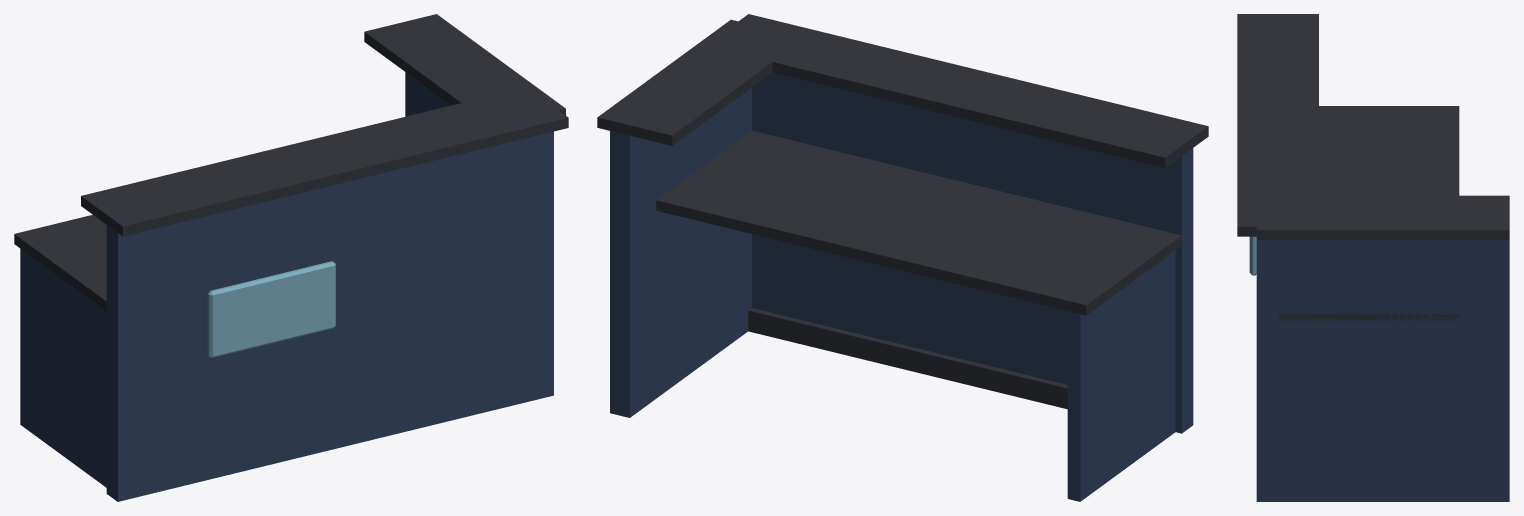
Rendered from reception-counter-05.glb.
3 views of the same model, side by side, from view 1: azimuth 30°, elevation 25°; view 2: azimuth 150°, elevation 25°; view 3: azimuth 270°, elevation 25° (orthographic). The views are drawn at different scales.
Parts seen in each view (by area): view 1: reception_counter_05; view 2: reception_counter_05; view 3: reception_counter_05.
Part boxes in pixels (x1,y1,x2,y2): reception_counter_05: (14, 14, 568, 501); reception_counter_05: (597, 14, 1208, 501); reception_counter_05: (1237, 14, 1509, 501).
Size of the model in its own units: 1.88 by 1.12 by 0.9987.
